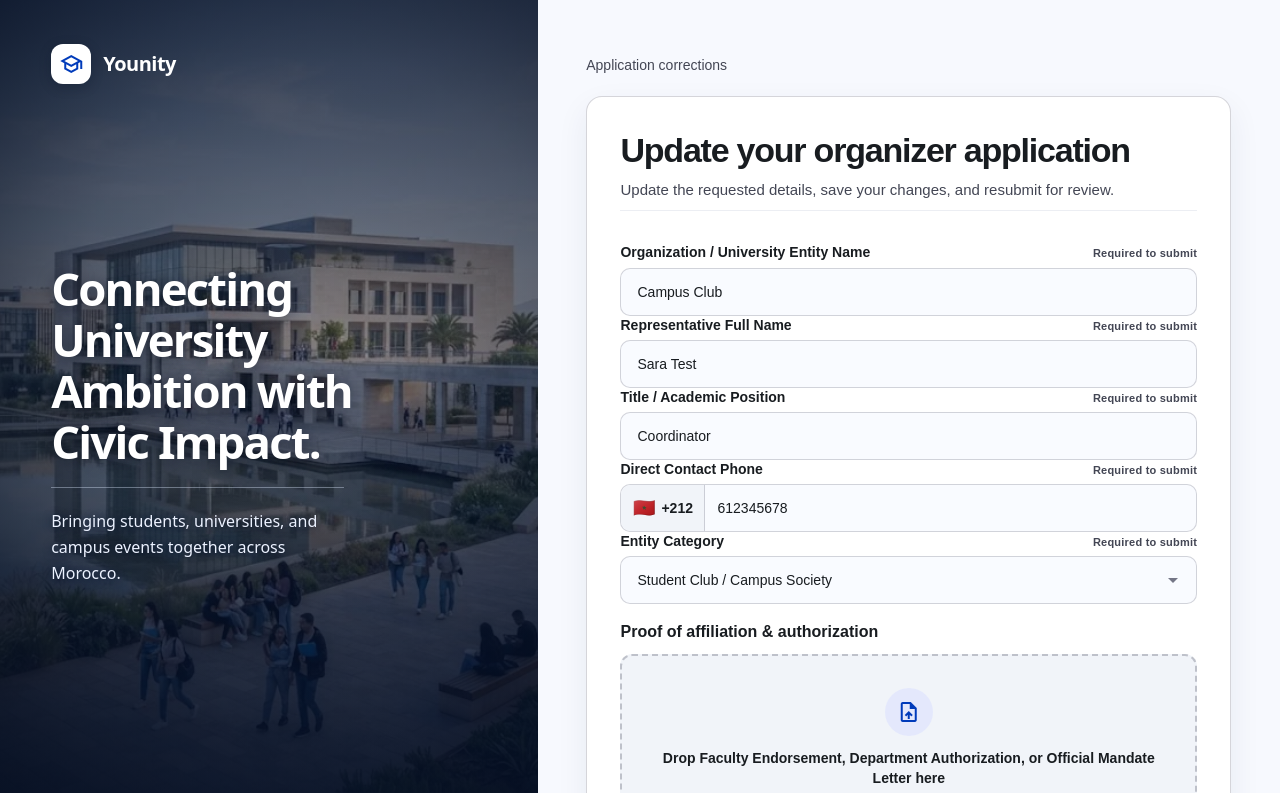
Test: organizer submission and corrections › requires an explicit save before submitting edits, then submits only the saved draft
Replace the text in the field labelled "Organization / University Entity Name" with "Updated Club" at (909, 292), box [620, 268, 1197, 316]
(page scrolled)
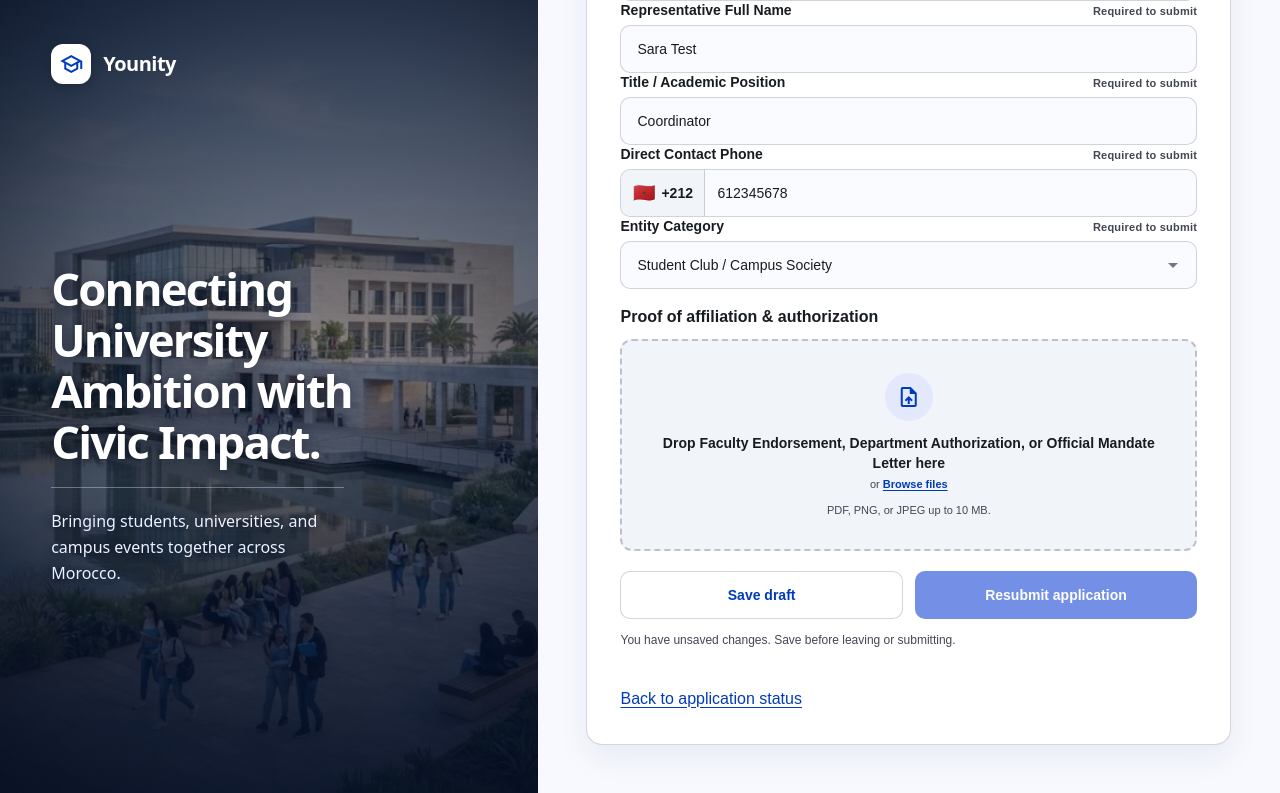
Expected: the button "Resubmit application" is disabled, [915, 571, 1197, 619]
Click the button "Save draft" at (762, 595), box [620, 571, 903, 619]
(page scrolled)
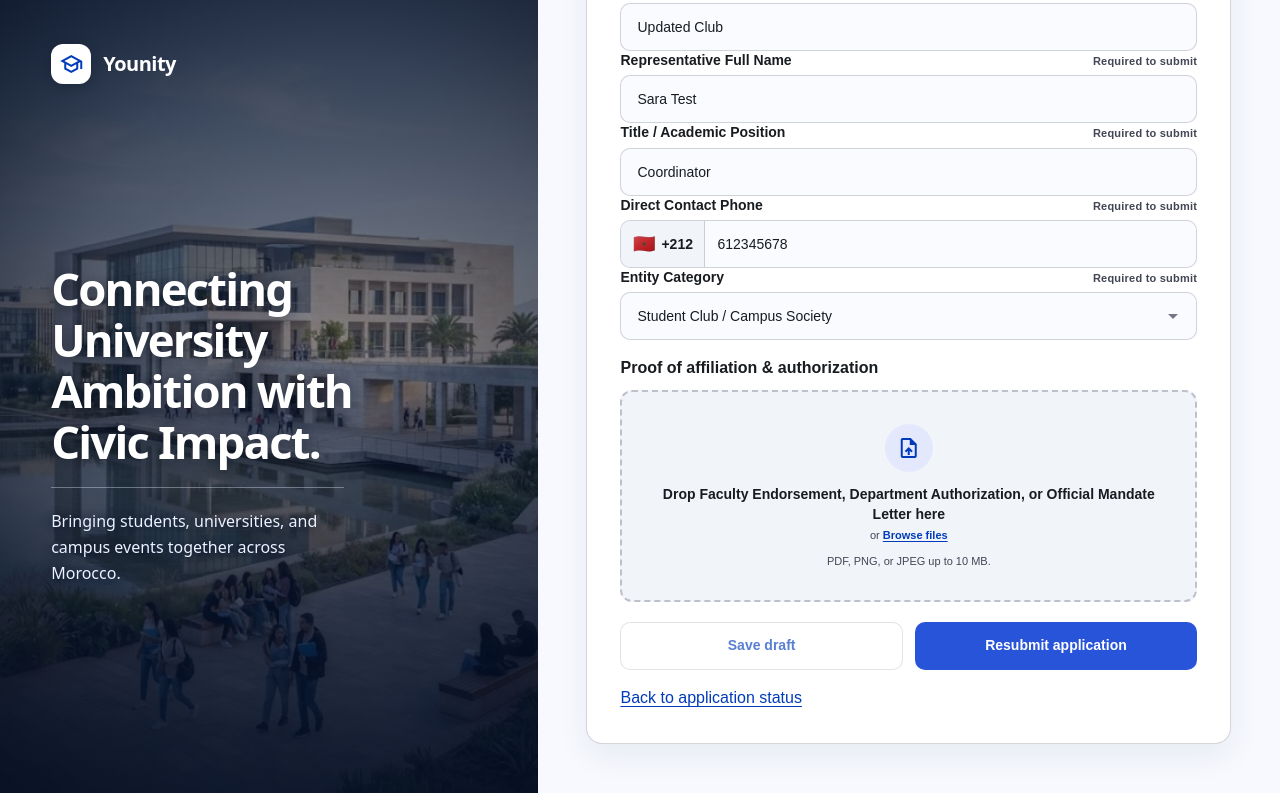
Expected: the button "Resubmit application" is enabled
Click the button "Resubmit application" at (1056, 646), box [915, 622, 1197, 670]
(page scrolled)
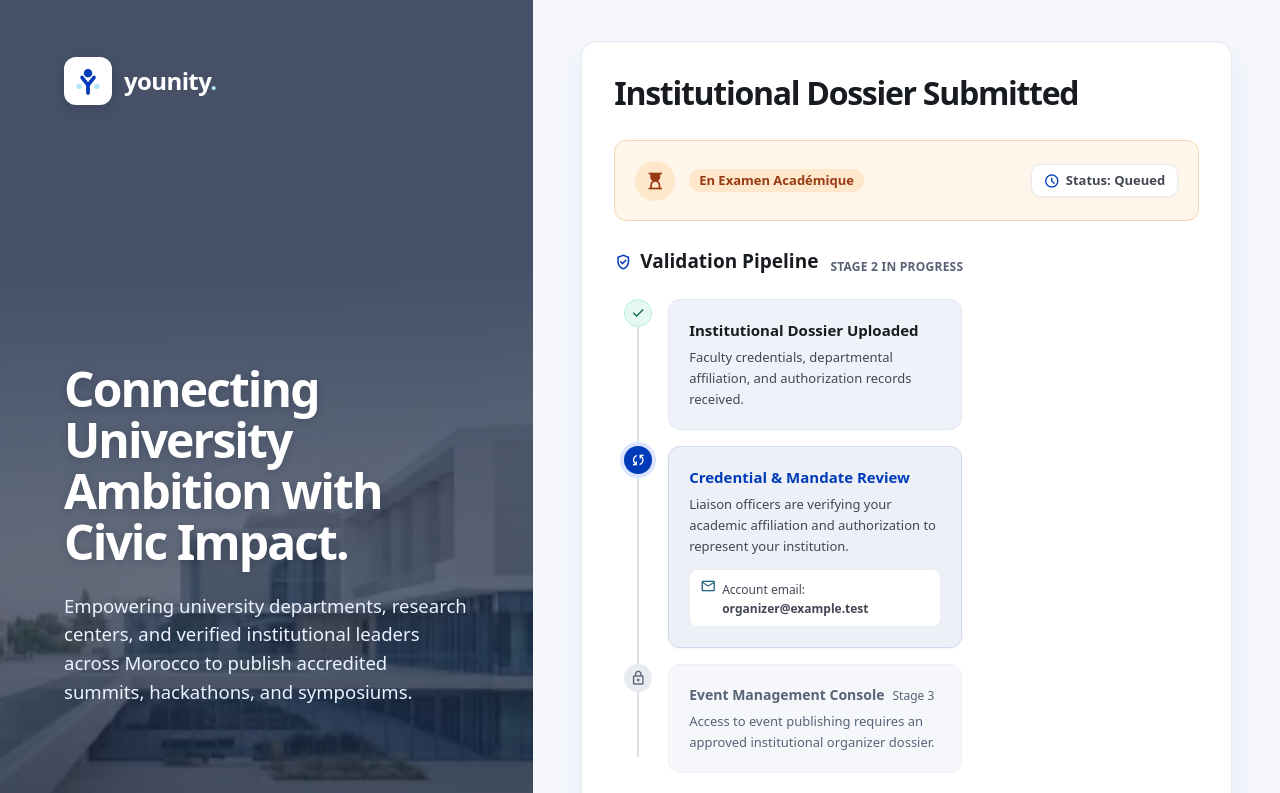
Expected: the heading "Institutional Dossier Submitted" is shown, [614, 71, 1078, 114]
